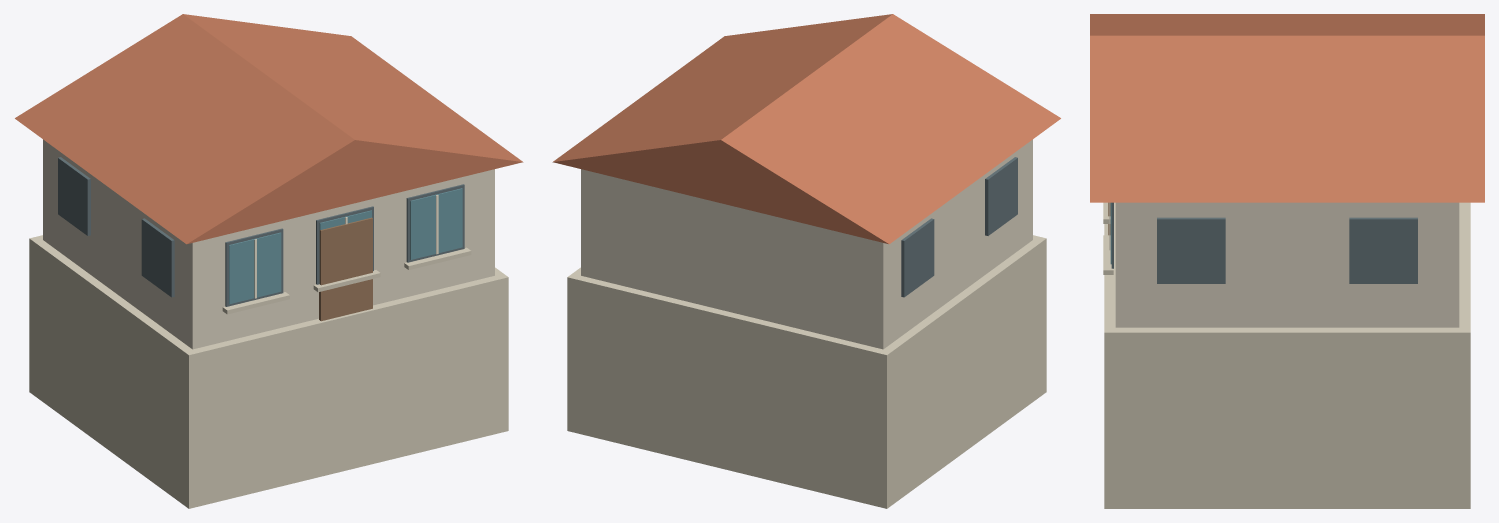
Rendered from farm-0.glb.
3 renders of one model, left to right at view 1: azimuth 30°, elevation 25°; view 2: azimuth 150°, elevation 25°; view 3: azimuth 270°, elevation 25°, orthographic. The views are drawn at different scales.
Size of the model in its own units: 3.9 by 3.7 by 3.45.
